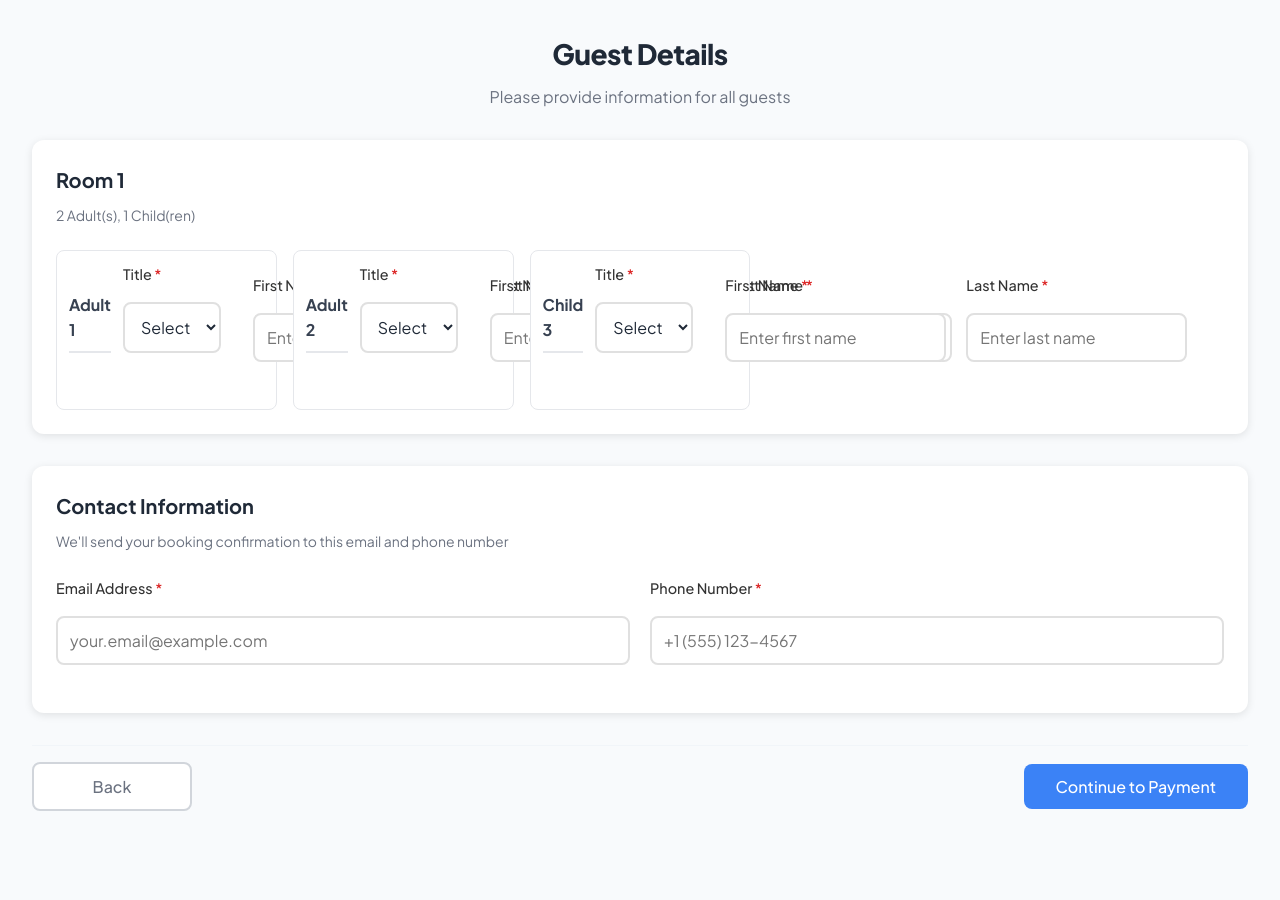
Test: GuestDetailsForm › Form Validation › should show error when title is not selected
This screenshot has width=1280, height=900.
Click the button "Continue to Payment" at (1136, 786), box top-left (1024, 764), bottom-right (1248, 809)
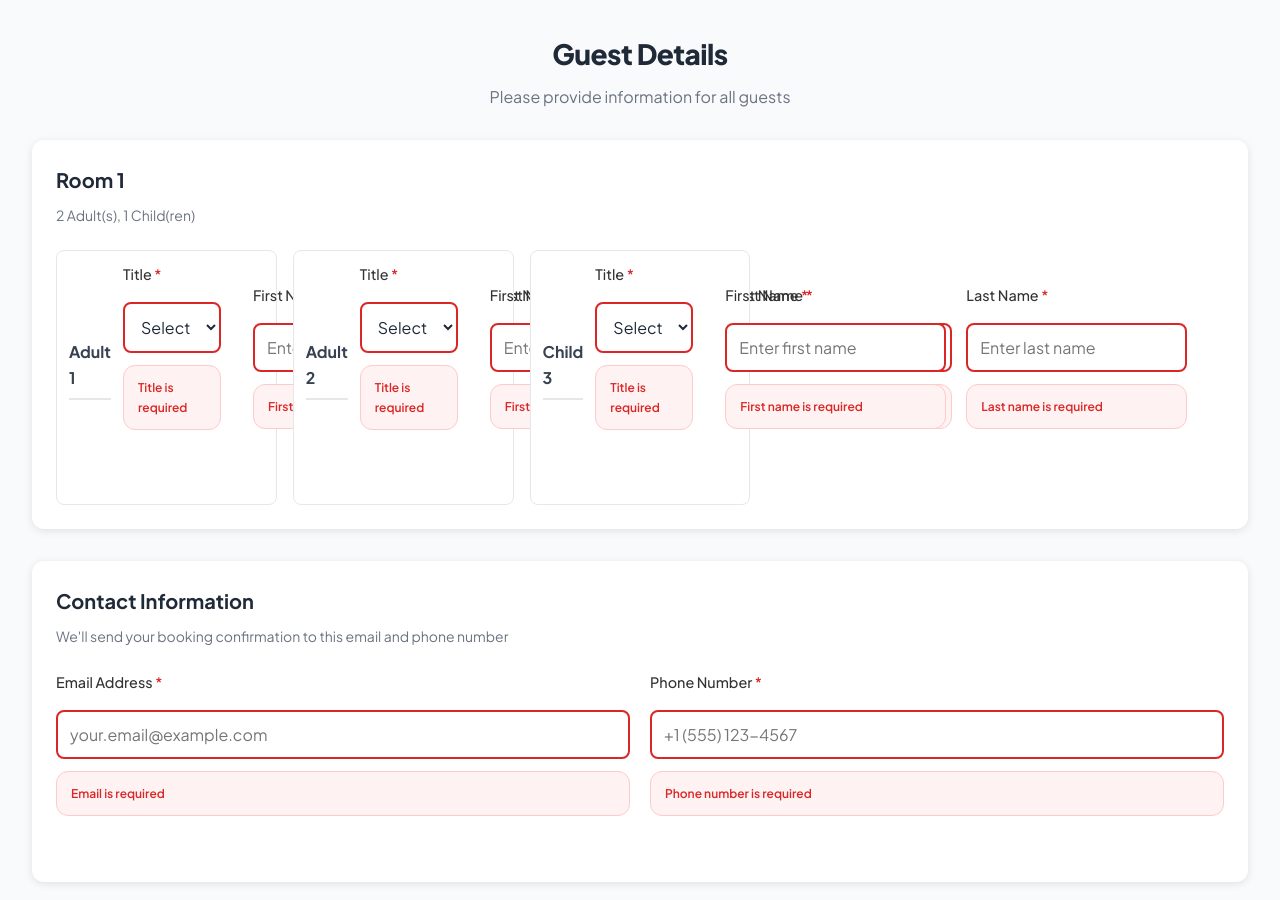
Result: the 1st text "Title is required" is shown at top-left (123, 365), bottom-right (221, 430)
